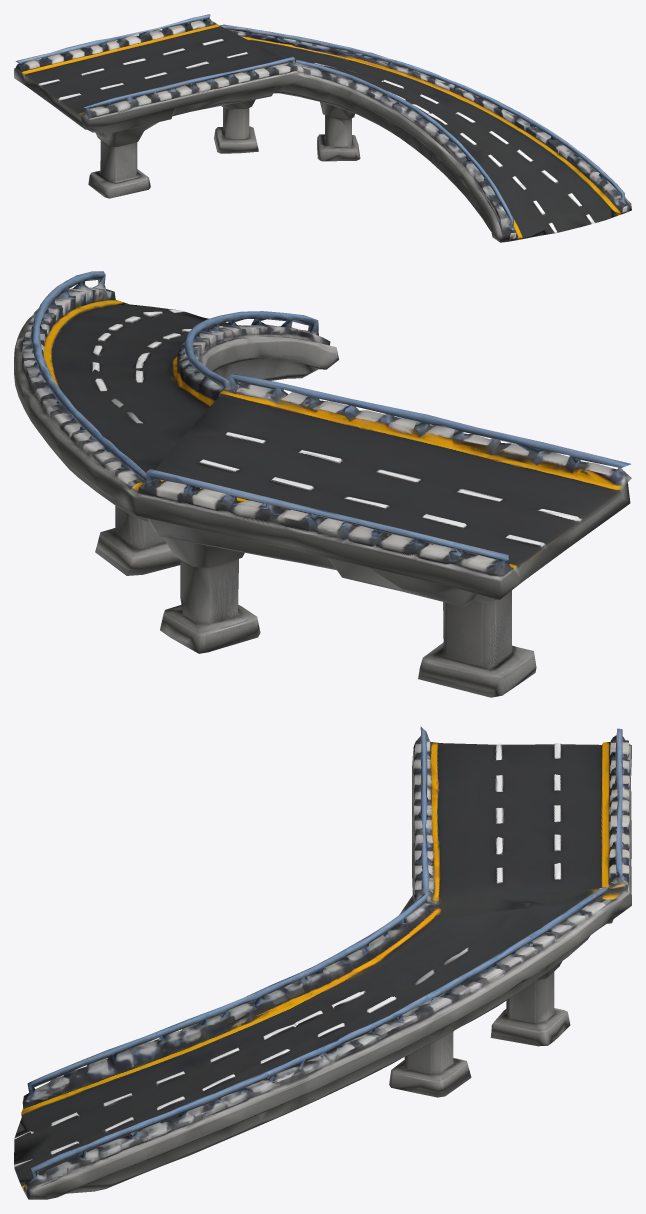
File: threelanedeclinerampcurved.glb
3 views of the same model, one above another, from view 1: azimuth 30°, elevation 25°; view 2: azimuth 150°, elevation 25°; view 3: azimuth 270°, elevation 25° (orthographic). The views are drawn at different scales.
Parts seen in each view (by area): view 1: tripo_node_9e234832-2512-4170-b2bc-b5d2d720f952; view 2: tripo_node_9e234832-2512-4170-b2bc-b5d2d720f952; view 3: tripo_node_9e234832-2512-4170-b2bc-b5d2d720f952.
Boxes of the visible parts, x1=… form: tripo_node_9e234832-2512-4170-b2bc-b5d2d720f952: x1=14, y1=14, x2=631, y2=242; tripo_node_9e234832-2512-4170-b2bc-b5d2d720f952: x1=14, y1=271, x2=631, y2=697; tripo_node_9e234832-2512-4170-b2bc-b5d2d720f952: x1=14, y1=726, x2=631, y2=1199.
Bounding box in the file's own units: 1 × 0.252 × 0.8446.
Materials: 1 (1 with a texture image).
